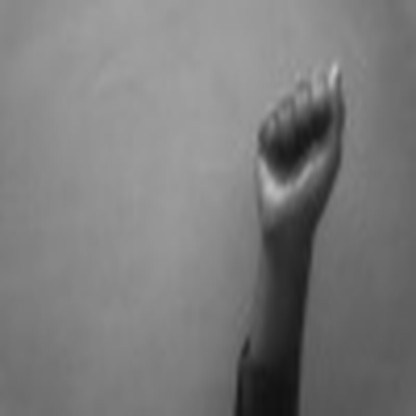a: (251, 53, 357, 240)
